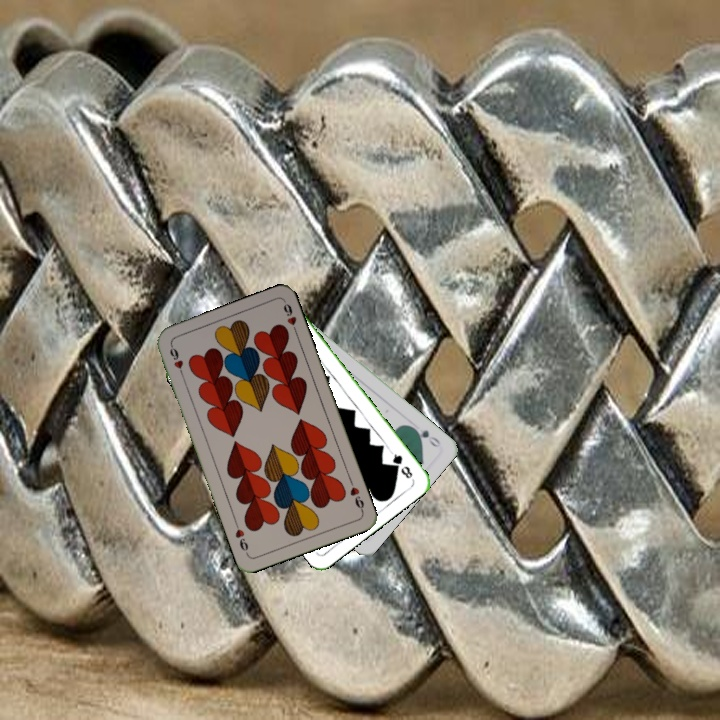G8: (386, 447, 415, 481)
GO: (407, 422, 443, 450)
H9: (345, 476, 367, 515), (166, 340, 186, 380)
